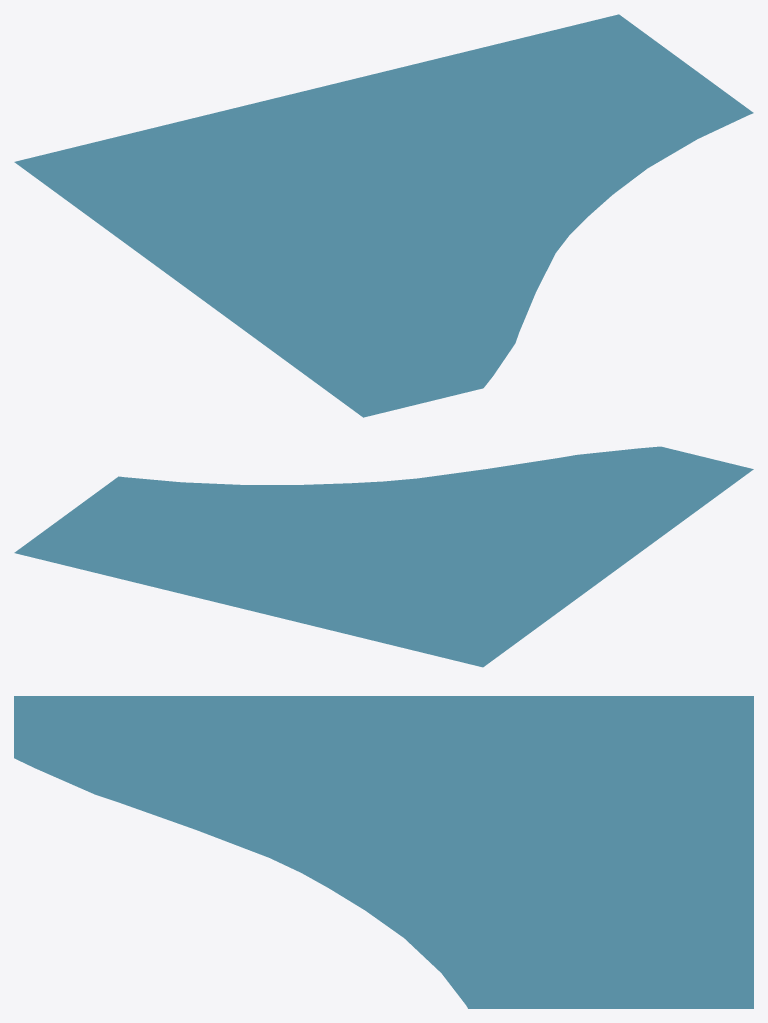
File: nature_-3_7.glb
The picture shows the model from 3 angles, top to bottom: view 1: azimuth 30°, elevation 25°; view 2: azimuth 150°, elevation 25°; view 3: azimuth 270°, elevation 25°; orthographic projection. The views are drawn at different scales.
Parts seen in each view (by area): view 1: water; view 2: water; view 3: water.
Part boxes in pixels (left/top/right/bottom): water: left=14, top=14, right=753, bottom=417; water: left=14, top=446, right=753, bottom=667; water: left=14, top=696, right=753, bottom=1008.
Size of the model in its own units: 250 by 0 by 250.
